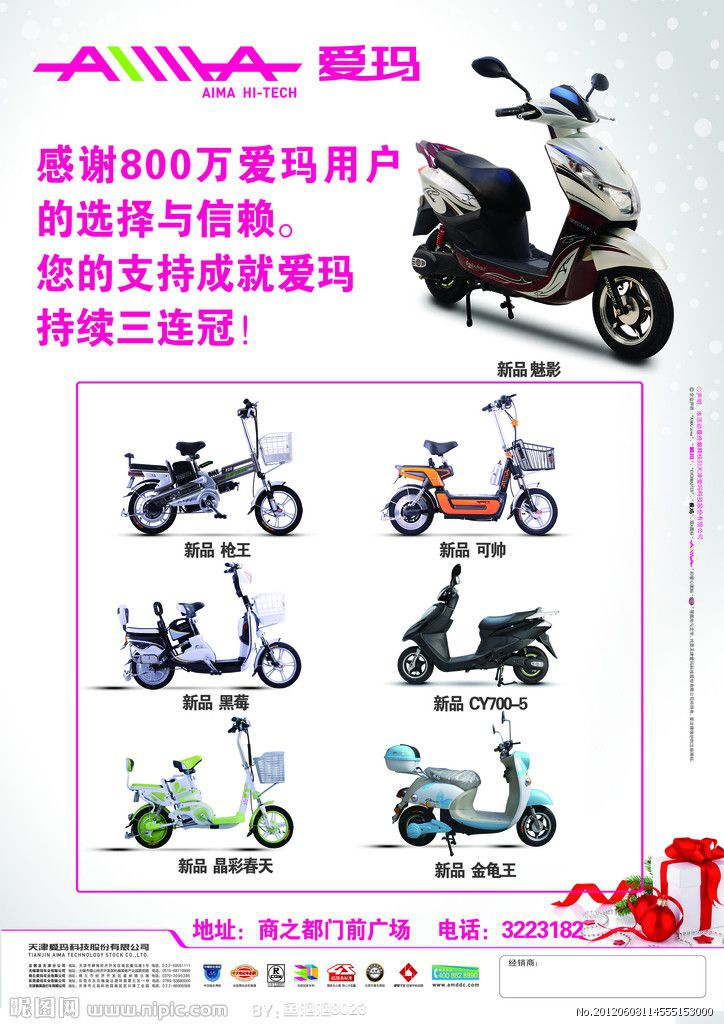non-vehicle: (404, 51, 673, 368), (375, 392, 572, 538), (111, 397, 306, 540), (106, 712, 297, 852), (111, 568, 313, 697), (389, 552, 554, 695), (389, 724, 561, 847)
